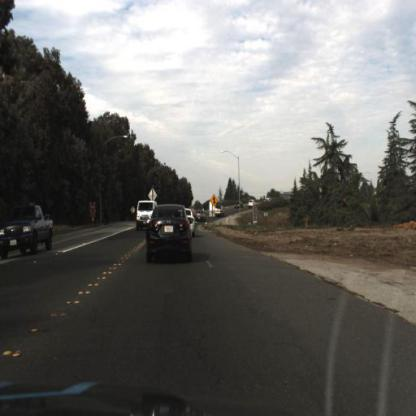car: (1, 200, 55, 257), (145, 204, 193, 267), (133, 195, 160, 235), (215, 200, 230, 221), (194, 209, 208, 230)
